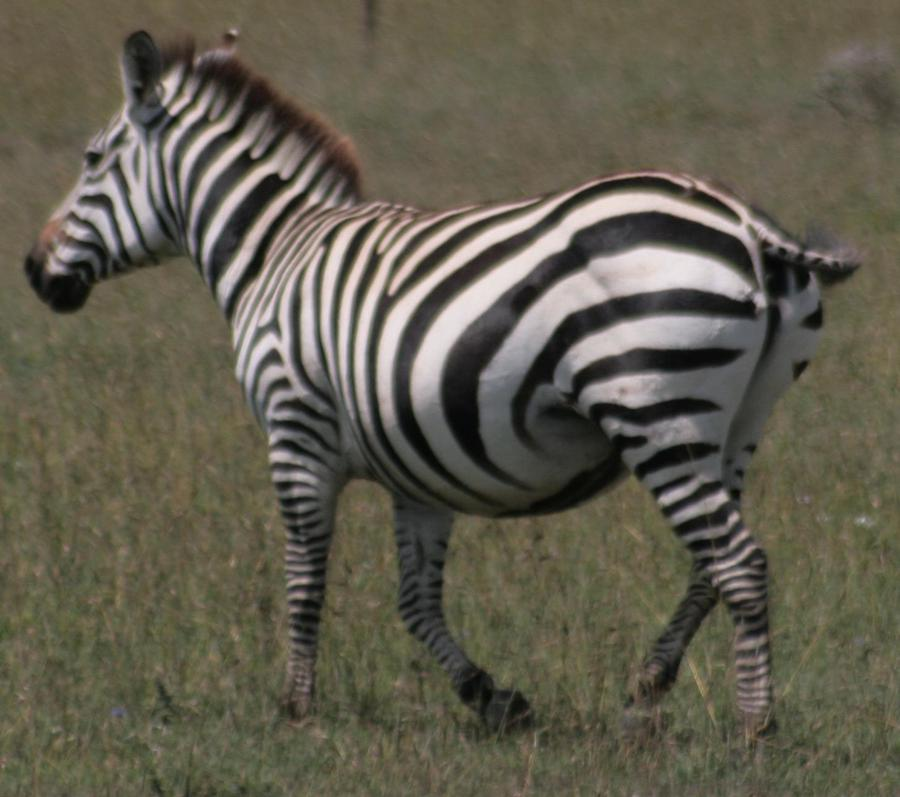zebra_plains: (196, 173, 741, 513)
